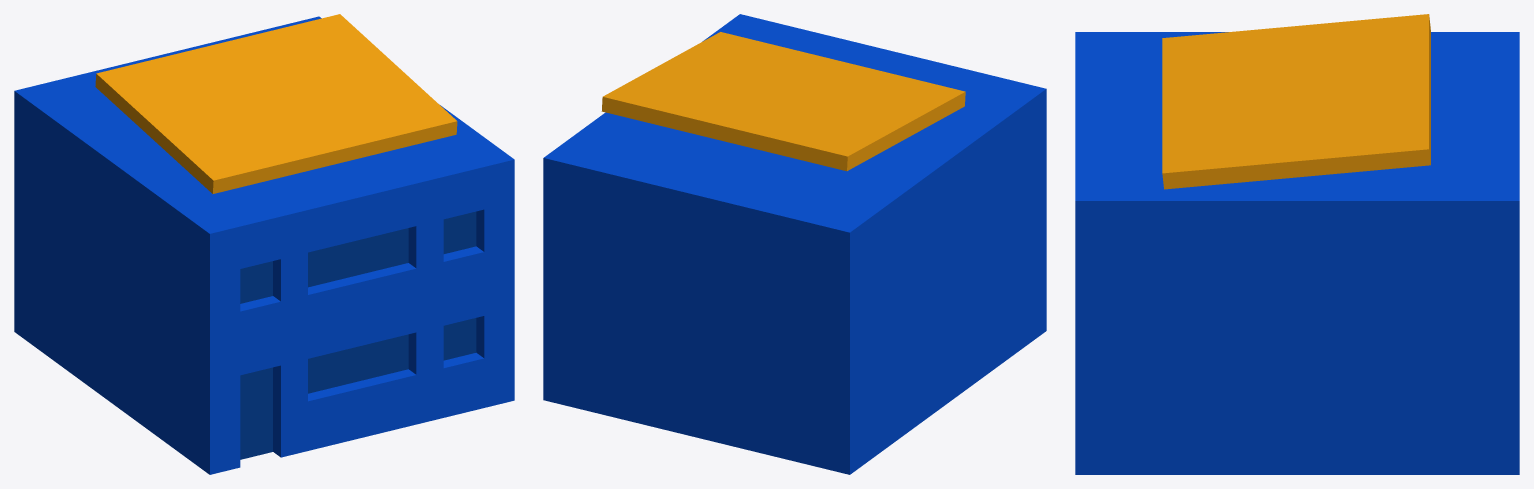
The model's file is ghostbina2.gltf.
3 renders of one model, left to right at view 1: azimuth 30°, elevation 25°; view 2: azimuth 150°, elevation 25°; view 3: azimuth 270°, elevation 25°, orthographic. The views are drawn at different scales.
Parts seen in each view (by area): view 1: Building_007_RoofCap_0.004; view 2: Building_007_RoofCap_0.004; view 3: Building_007_RoofCap_0.004.
Part boxes in pixels (<box>): Building_007_RoofCap_0.004: <box>14,14,514,474</box>; Building_007_RoofCap_0.004: <box>543,14,1046,474</box>; Building_007_RoofCap_0.004: <box>1075,14,1519,474</box>.
Size of the model in its own units: 0.0489 by 0.0425 by 0.0543.
